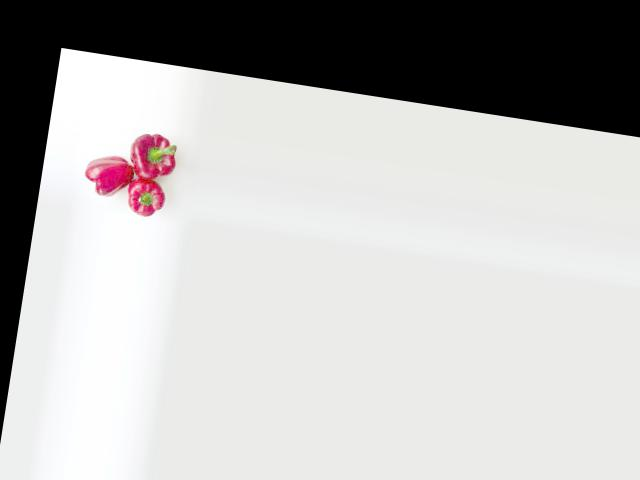bell_pepper: (74, 147, 137, 208)
